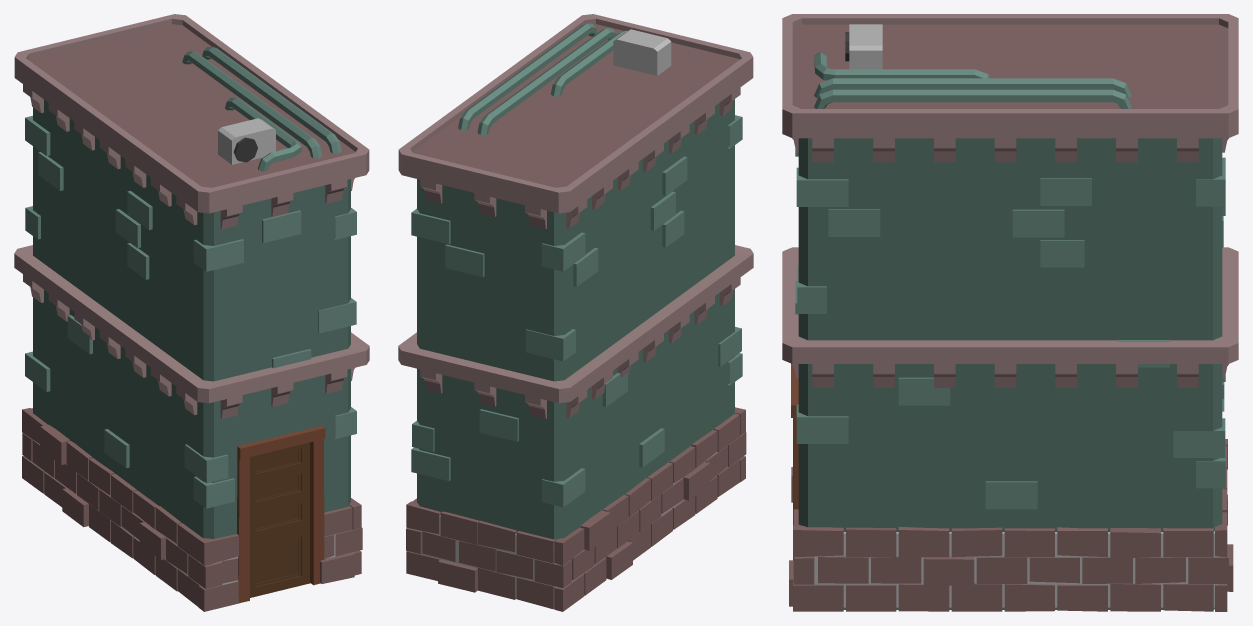
Rendered from 2Story_Slim_Mat.glb.
3 renders of one model, left to right at view 1: azimuth 30°, elevation 25°; view 2: azimuth 150°, elevation 25°; view 3: azimuth 270°, elevation 25°, orthographic. The views are drawn at different scales.
Parts seen in each view (by area): view 1: 2Story_Slim_Mat; view 2: 2Story_Slim_Mat; view 3: 2Story_Slim_Mat.
Boxes of the visible parts, x1,y1,x2,y2 form: 2Story_Slim_Mat: (14, 14, 369, 611); 2Story_Slim_Mat: (398, 14, 753, 611); 2Story_Slim_Mat: (782, 14, 1238, 611).
Size of the model in its own units: 0.8925 by 2.21 by 1.72.
